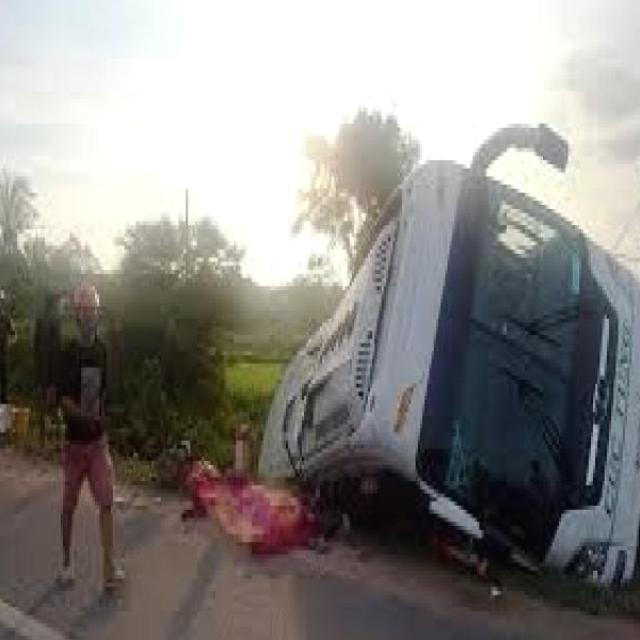accident: (238, 160, 640, 616)
